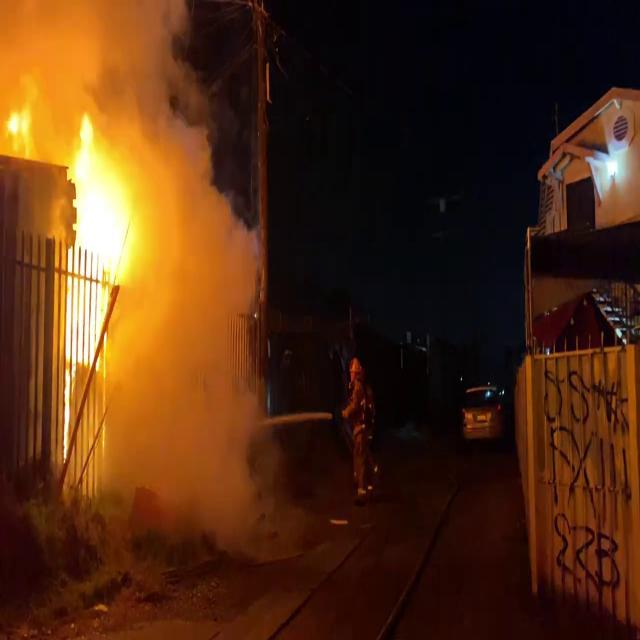Fire: (60, 109, 138, 339)
Smoke: (98, 68, 266, 560)
